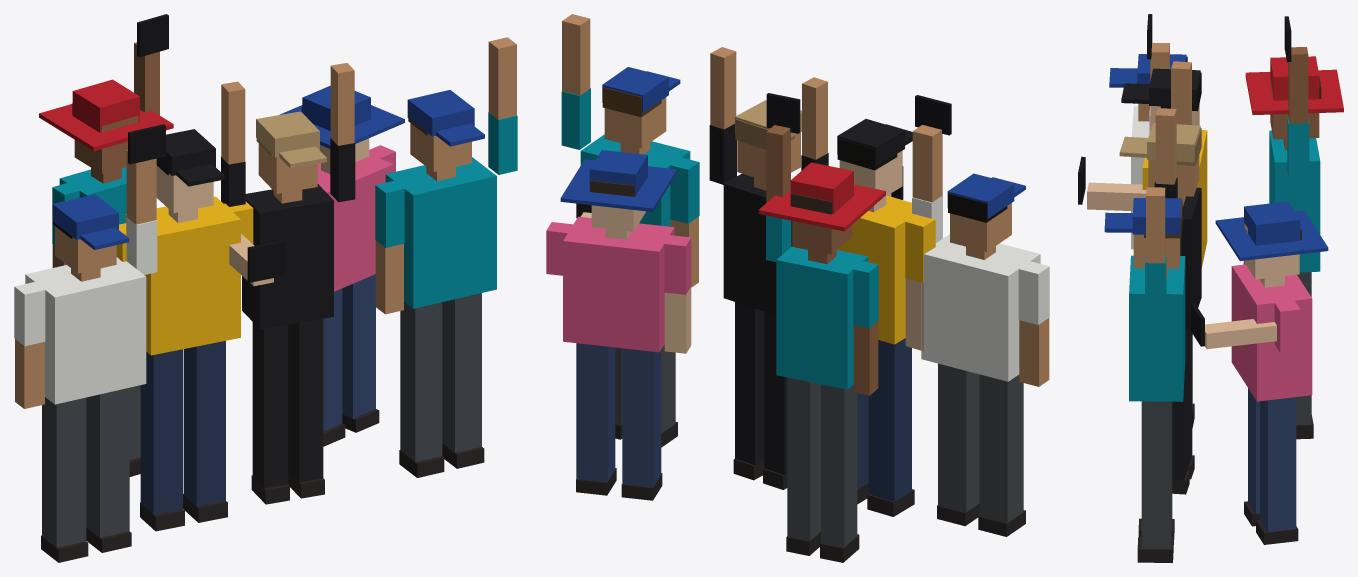
File: crowd_e.dae
3 views of the same model, side by side, from view 1: azimuth 30°, elevation 25°; view 2: azimuth 150°, elevation 25°; view 3: azimuth 270°, elevation 25° (orthographic). The views are drawn at different scales.
Parts seen in each view (by area): view 1: marker; view 2: marker; view 3: marker.
Part boxes in pixels (x1=…): marker: x1=14, y1=14, x2=517, y2=562; marker: x1=546, y1=14, x2=1049, y2=562; marker: x1=1078, y1=14, x2=1343, y2=562.
Bounding box in the file's own units: 2.56 × 1.28 × 2.24.
